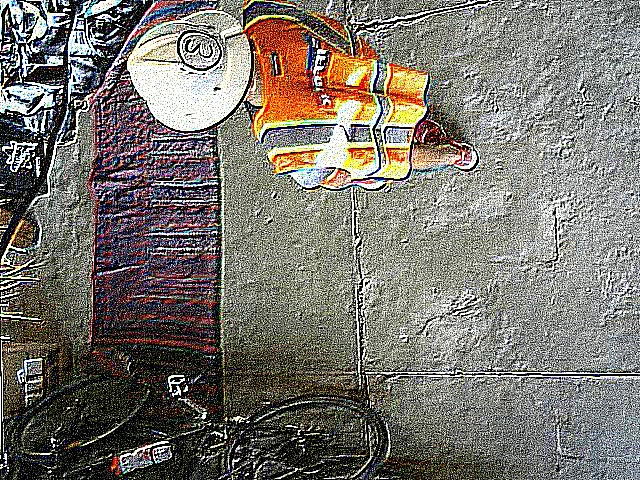three: (177, 31, 222, 71)
